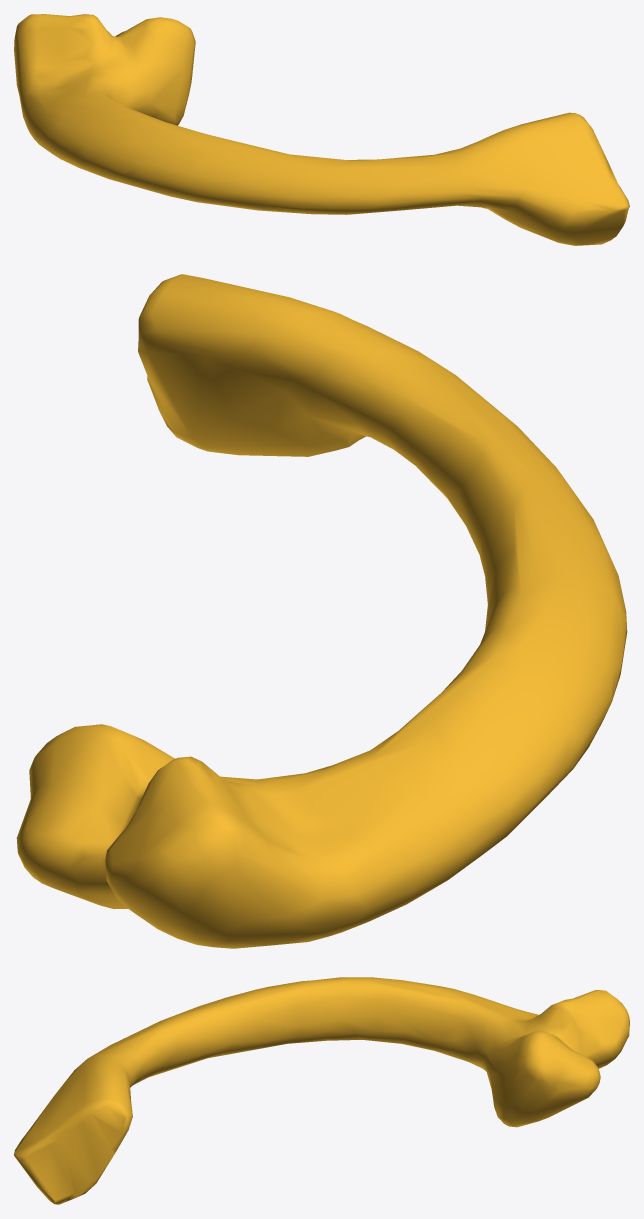
Rendered from nervoso-optic-tract-r.glb.
3 views of the same model, one above another, from view 1: azimuth 30°, elevation 25°; view 2: azimuth 150°, elevation 25°; view 3: azimuth 270°, elevation 25° (orthographic). The views are drawn at different scales.
Parts seen in each view (by area): view 1: Optic tract.r; view 2: Optic tract.r; view 3: Optic tract.r.
Boxes of the visible parts, <box> form: Optic tract.r: <box>14,14,629,245</box>; Optic tract.r: <box>16,274,627,948</box>; Optic tract.r: <box>14,977,629,1204</box>.
Bounding box in the file's own units: 0.0241 × 0.00778 × 0.0367.
